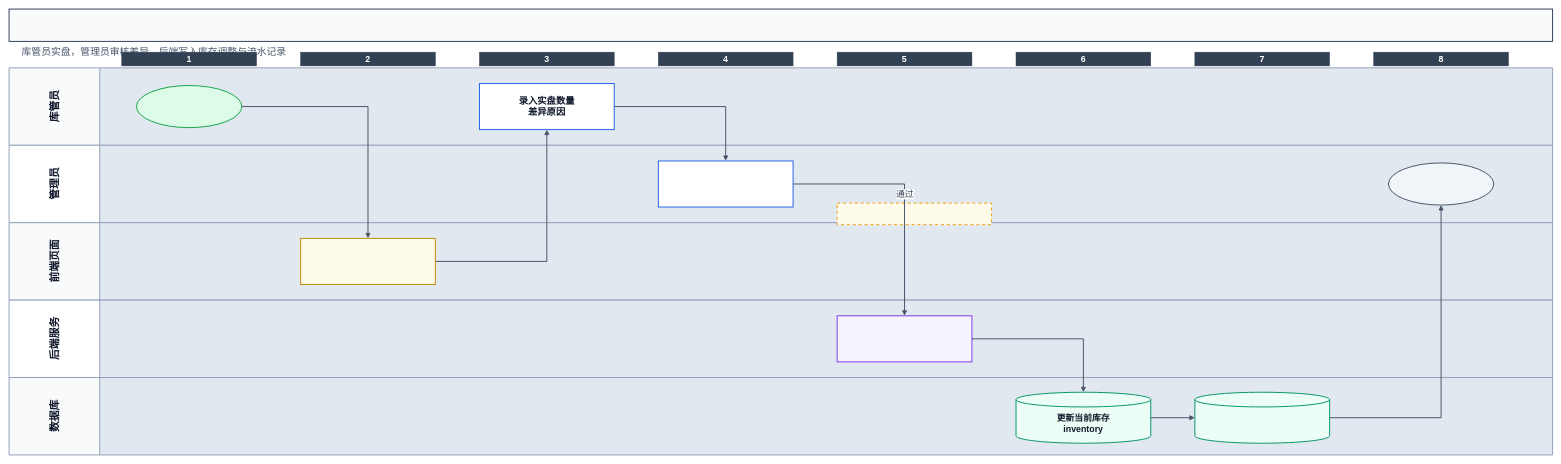
Image size: 1561x464. Some labels were removed from this diagram. Here are the shapes that lost their labels. From the top down, the centre of each, then its label:
[780,25]: 库存盘点泳道图
[189,106]: 发起盘点 选择商品范围
[725,183]: 审核差异 确认调整
[1441,183]: 查看盘点结果 异常复核
[914,213]: 不通过 -> 退回库管员重盘
[368,261]: 读取账面库存 /inventory
[904,338]: 计算调整量 set_inventory_quantity
[1262,417]: 写盘点流水 logs: adjust
